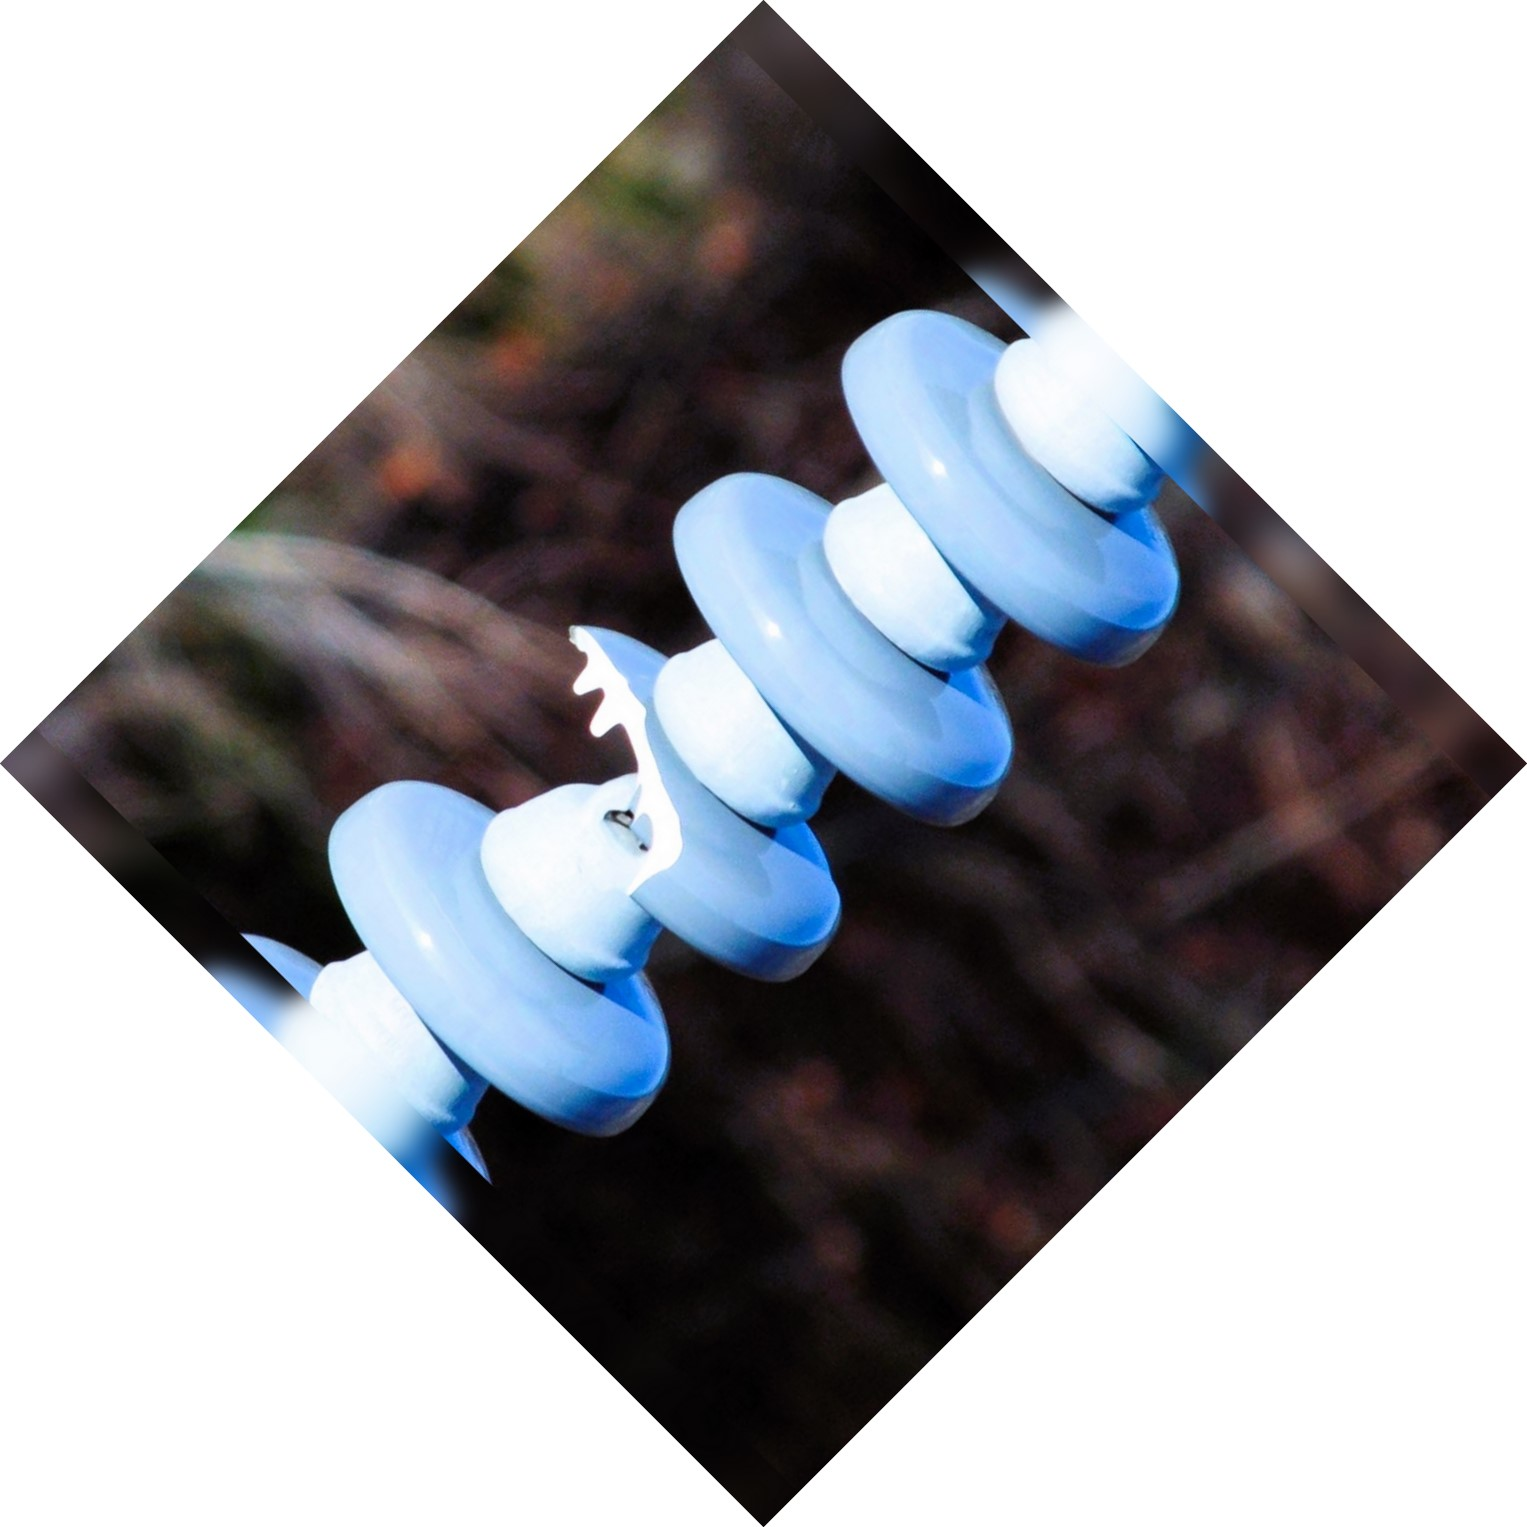insulator breakage: (550, 605, 873, 983)
